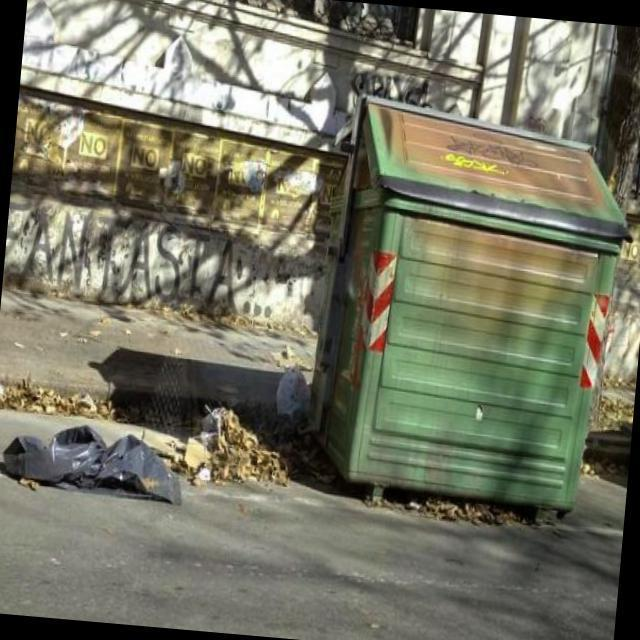garbage: (0, 417, 177, 519), (179, 396, 292, 505), (398, 479, 538, 539), (0, 367, 127, 432), (267, 350, 321, 450), (602, 393, 634, 432)
